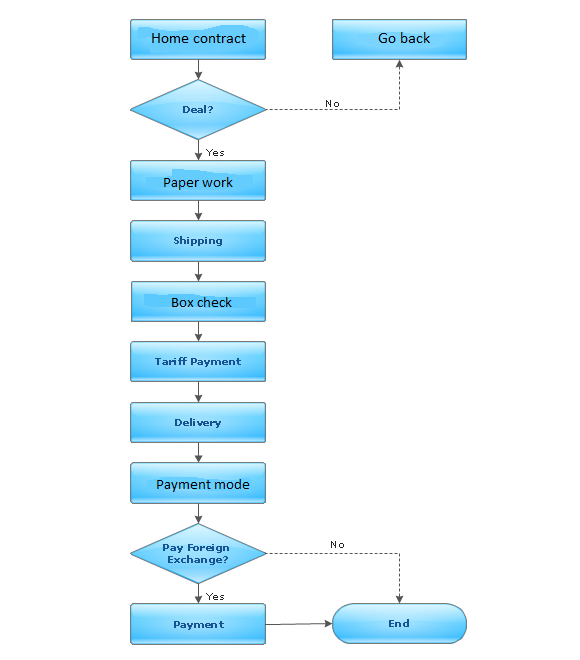arrow: (263, 57, 408, 114), (265, 551, 407, 606), (264, 618, 335, 628), (193, 138, 209, 161), (192, 199, 207, 220), (193, 58, 205, 83), (193, 260, 206, 283), (193, 500, 204, 525), (193, 378, 204, 403), (194, 317, 205, 342), (193, 442, 205, 464), (194, 581, 203, 607)
decision: (129, 521, 269, 586), (126, 78, 269, 140)
process: (127, 156, 269, 204), (127, 217, 269, 265), (127, 16, 270, 63), (127, 460, 269, 507), (128, 600, 270, 647), (129, 278, 270, 325), (127, 399, 269, 445), (128, 338, 269, 384), (330, 16, 470, 62)
terminator: (331, 601, 469, 647)
text: (161, 542, 233, 567), (150, 30, 246, 46), (154, 476, 250, 492), (152, 354, 244, 369), (162, 176, 238, 189), (169, 294, 234, 309), (377, 29, 431, 45), (171, 233, 224, 248), (172, 617, 226, 631), (173, 417, 224, 431), (181, 101, 213, 116), (386, 616, 412, 631), (203, 147, 227, 158), (206, 590, 227, 602), (328, 538, 346, 551), (323, 98, 338, 109)
